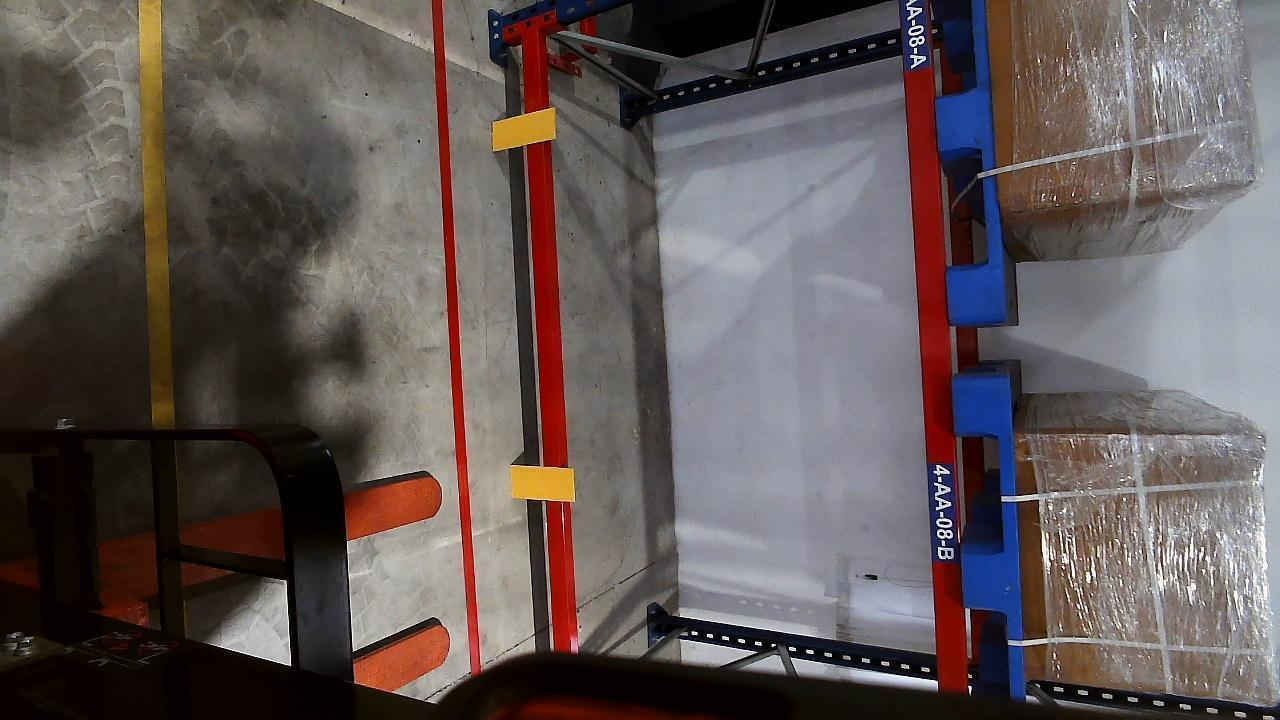red_line: (431, 1, 489, 666)
yellow_line: (136, 1, 177, 428)
